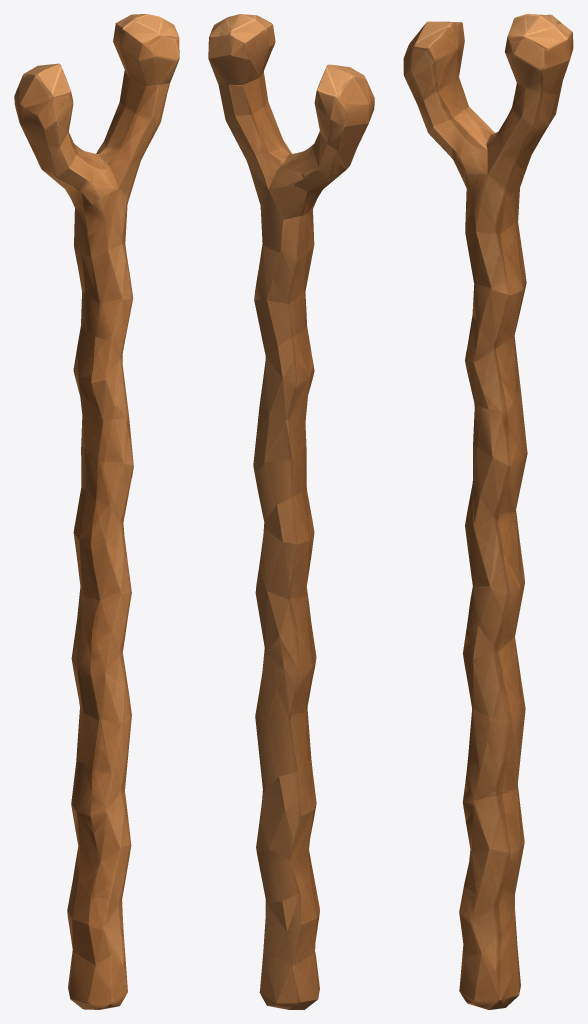
Rendered from staff-forked.glb.
The picture shows the model from 3 angles, left to right: view 1: azimuth 30°, elevation 25°; view 2: azimuth 150°, elevation 25°; view 3: azimuth 330°, elevation 25°; orthographic projection. The views are drawn at different scales.
Size of the model in its own units: 0.3189 by 1.9 by 0.1227.
1 material, 1 textured.
